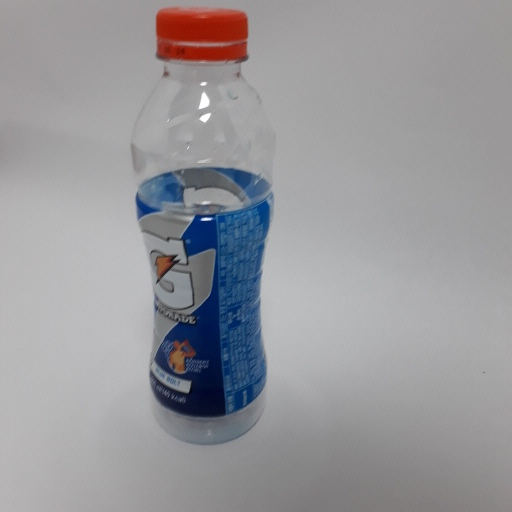Plastic_0: (130, 4, 279, 450)
